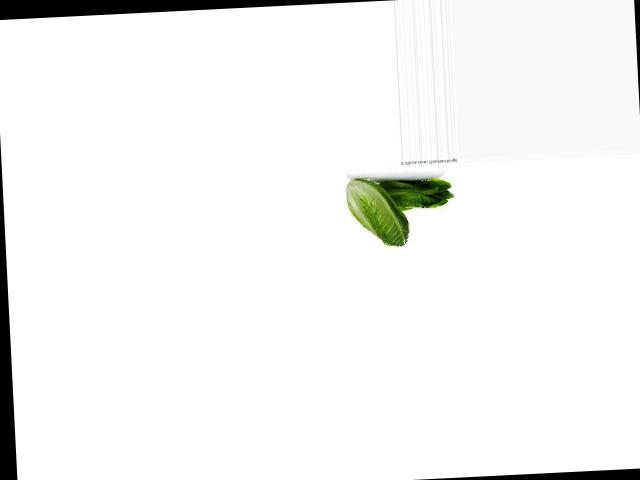lettuce: (378, 167, 453, 218)
